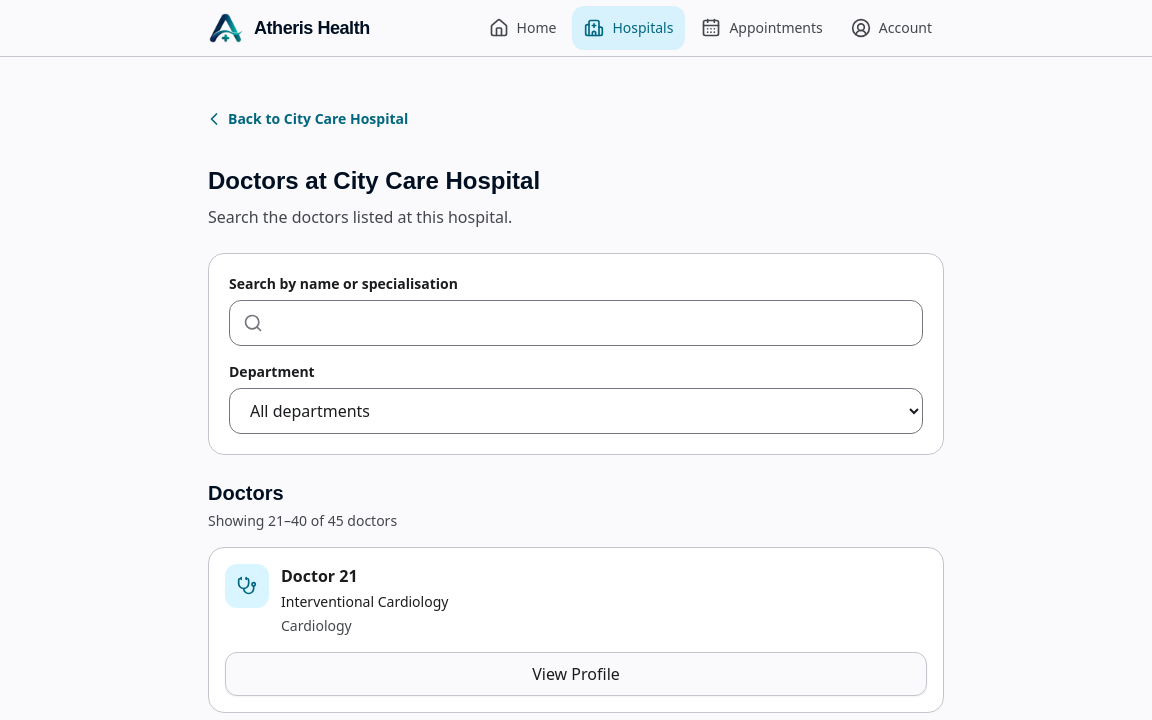
Scenario: doctor discovery — a hospital’s doctors › search › searches at once on Enter, trimmed, and from a later page goes back to the first
Type "  doctor 4  " into the search field labelled "Search by name or specialisation" at (576, 323), box [229,300,923,346]
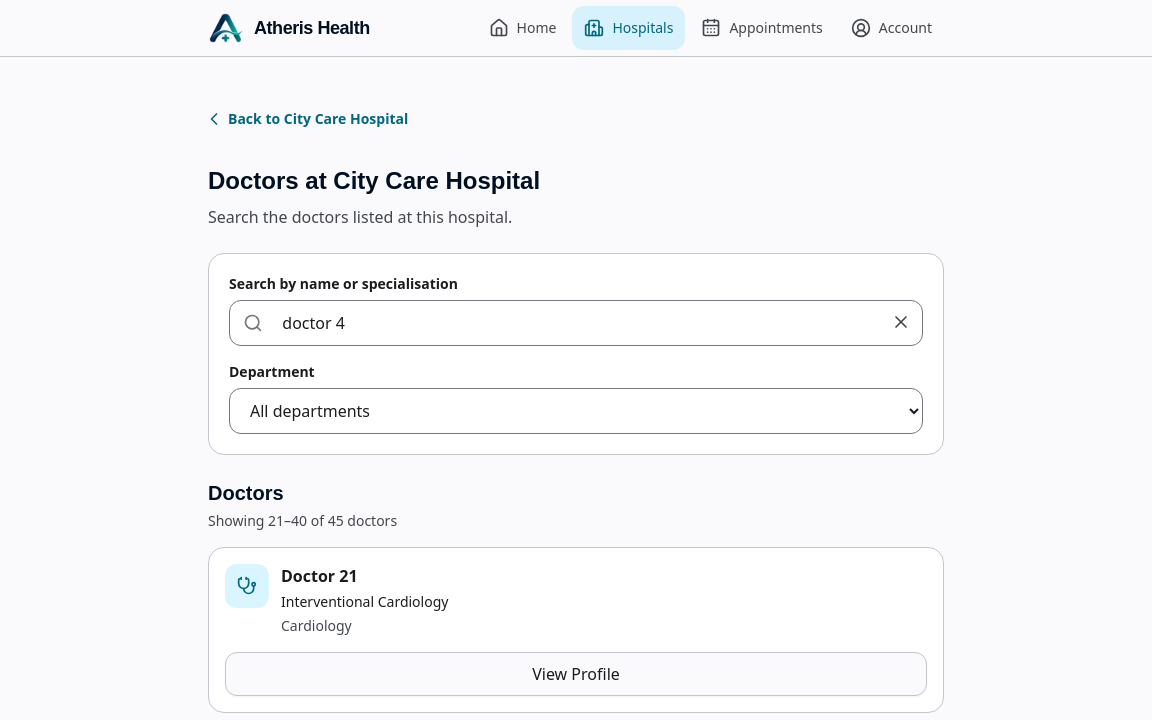
Submit the form, box [208,253,944,455]
Wait 1050 ms
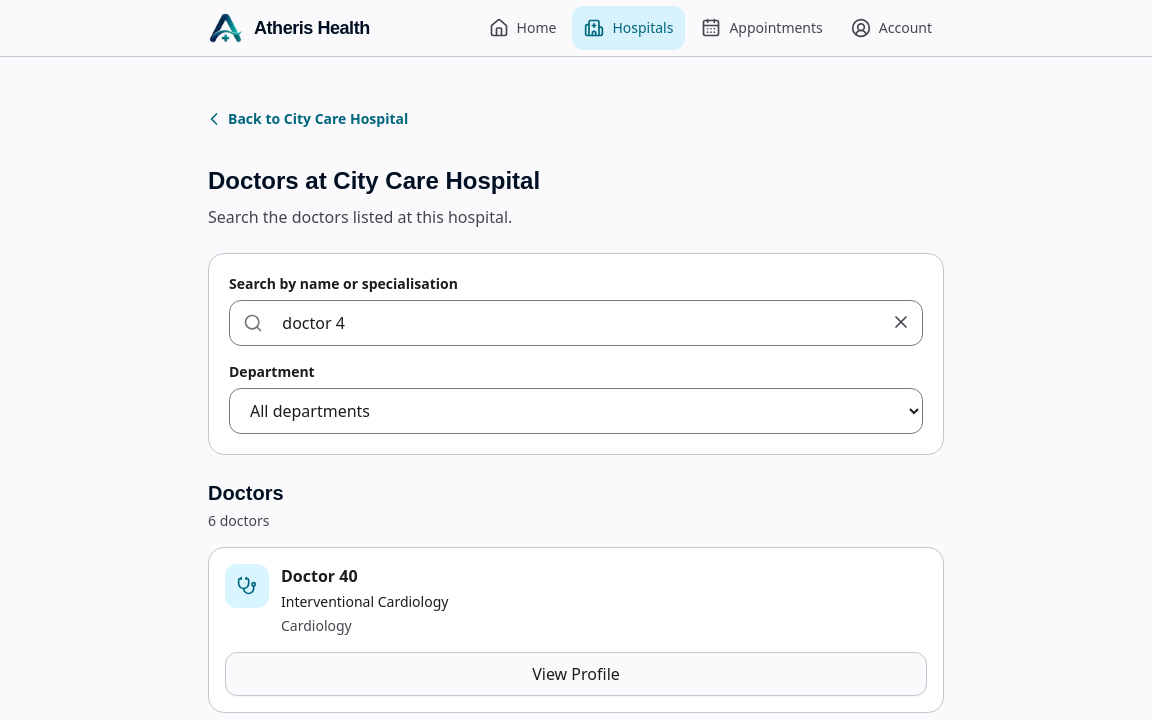
Check: the message reads "6 doctors", box [208,511,270,530]
